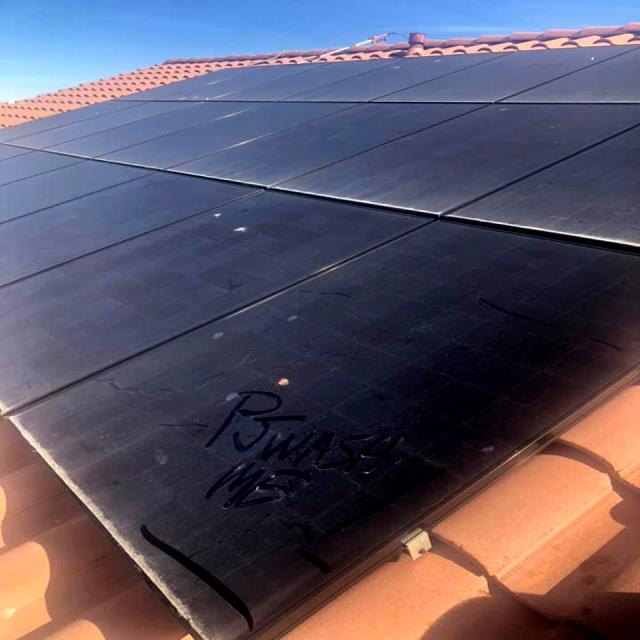dust: (79, 359, 551, 624), (0, 191, 295, 334), (210, 78, 391, 178), (466, 79, 620, 182), (432, 228, 574, 338), (295, 231, 422, 344)
